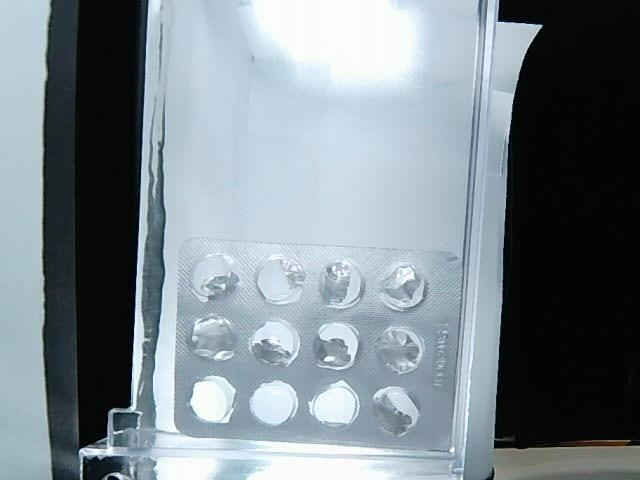Light Front: (175, 238, 462, 449)
No Pill Front: (254, 253, 306, 304), (190, 253, 242, 302), (309, 380, 360, 426), (249, 380, 299, 426), (249, 320, 300, 365), (378, 326, 425, 374), (319, 259, 364, 308), (189, 376, 236, 422), (374, 388, 419, 436), (380, 263, 425, 311), (191, 314, 237, 360), (314, 324, 359, 369)
